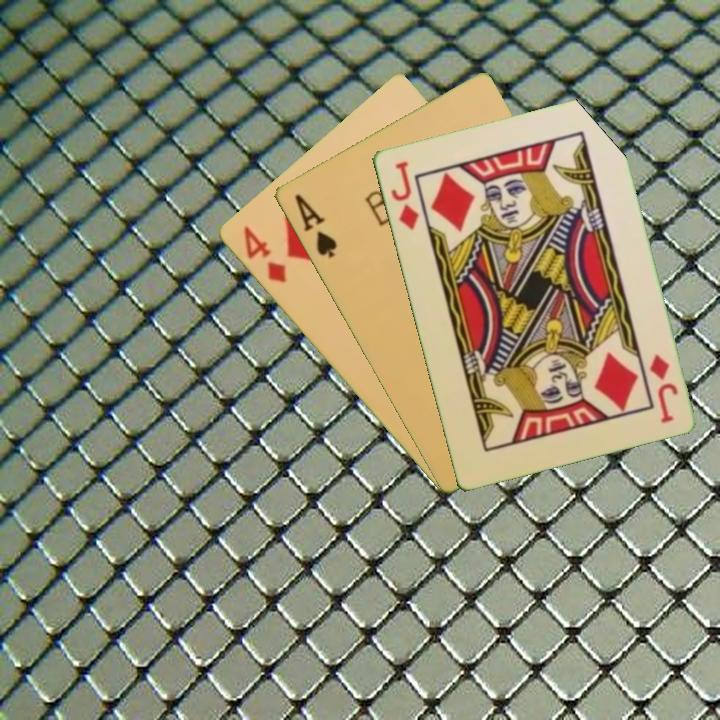4d: (239, 221, 289, 286)
As: (290, 190, 339, 261)
Jd: (645, 350, 681, 426), (387, 156, 422, 233)
